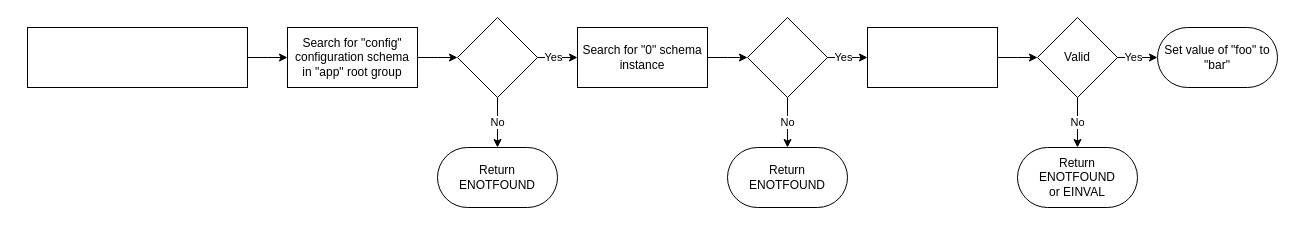
The diagram is 1304 pixels wide and 235 high, and some of its shapes have lost their labels. The box of each missing label's shape, as (x1, y1, x2, y2) in pixels:
cs->set("foo", si, "bar"): (866, 26, 998, 88)
Found cs: (456, 16, 538, 98)
Found si: (746, 16, 828, 98)
registry_set_value( "app/config/0/foo", "bar"): (26, 26, 248, 88)
